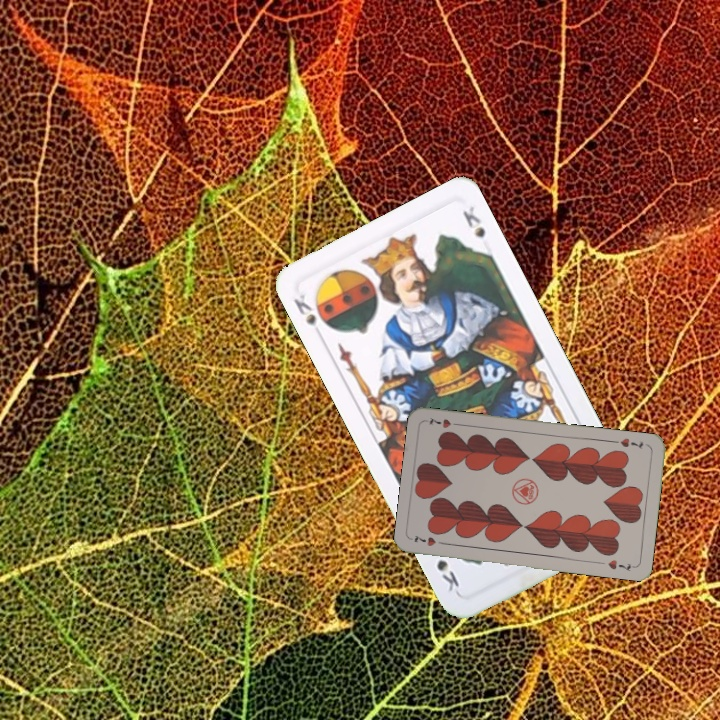H7: (408, 531, 449, 549), (617, 434, 646, 451)
SK: (289, 290, 326, 342)
